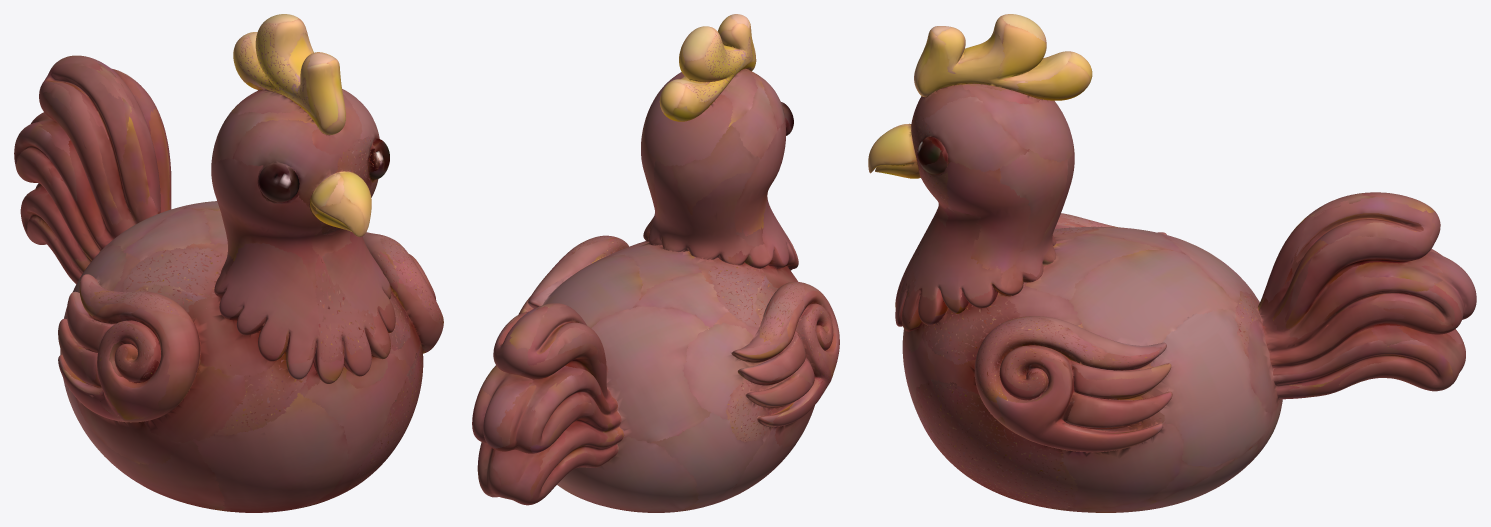
Rendered from phoenix_body.glb.
The picture shows the model from 3 angles, left to right: view 1: azimuth 30°, elevation 25°; view 2: azimuth 150°, elevation 25°; view 3: azimuth 270°, elevation 25°; orthographic projection. The views are drawn at different scales.
Visible parts, largest first — view 1: convert; view 2: convert; view 3: convert.
Boxes of the visible parts, x1,y1,x2,y2 form: convert: [14, 14, 443, 512]; convert: [472, 14, 839, 512]; convert: [868, 14, 1476, 512].
Size of the model in its own units: 0.6318 by 0.8963 by 1.08.
1 material, 1 textured.
